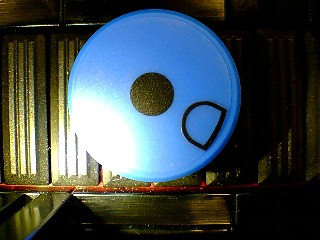BOHOMIPO1: (67, 8, 242, 183)
